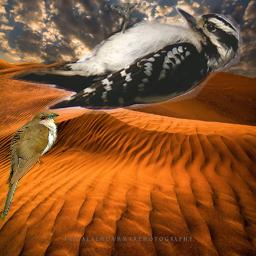Cuckoo: (0, 111, 60, 222)
Woodpecker: (6, 3, 255, 120)
